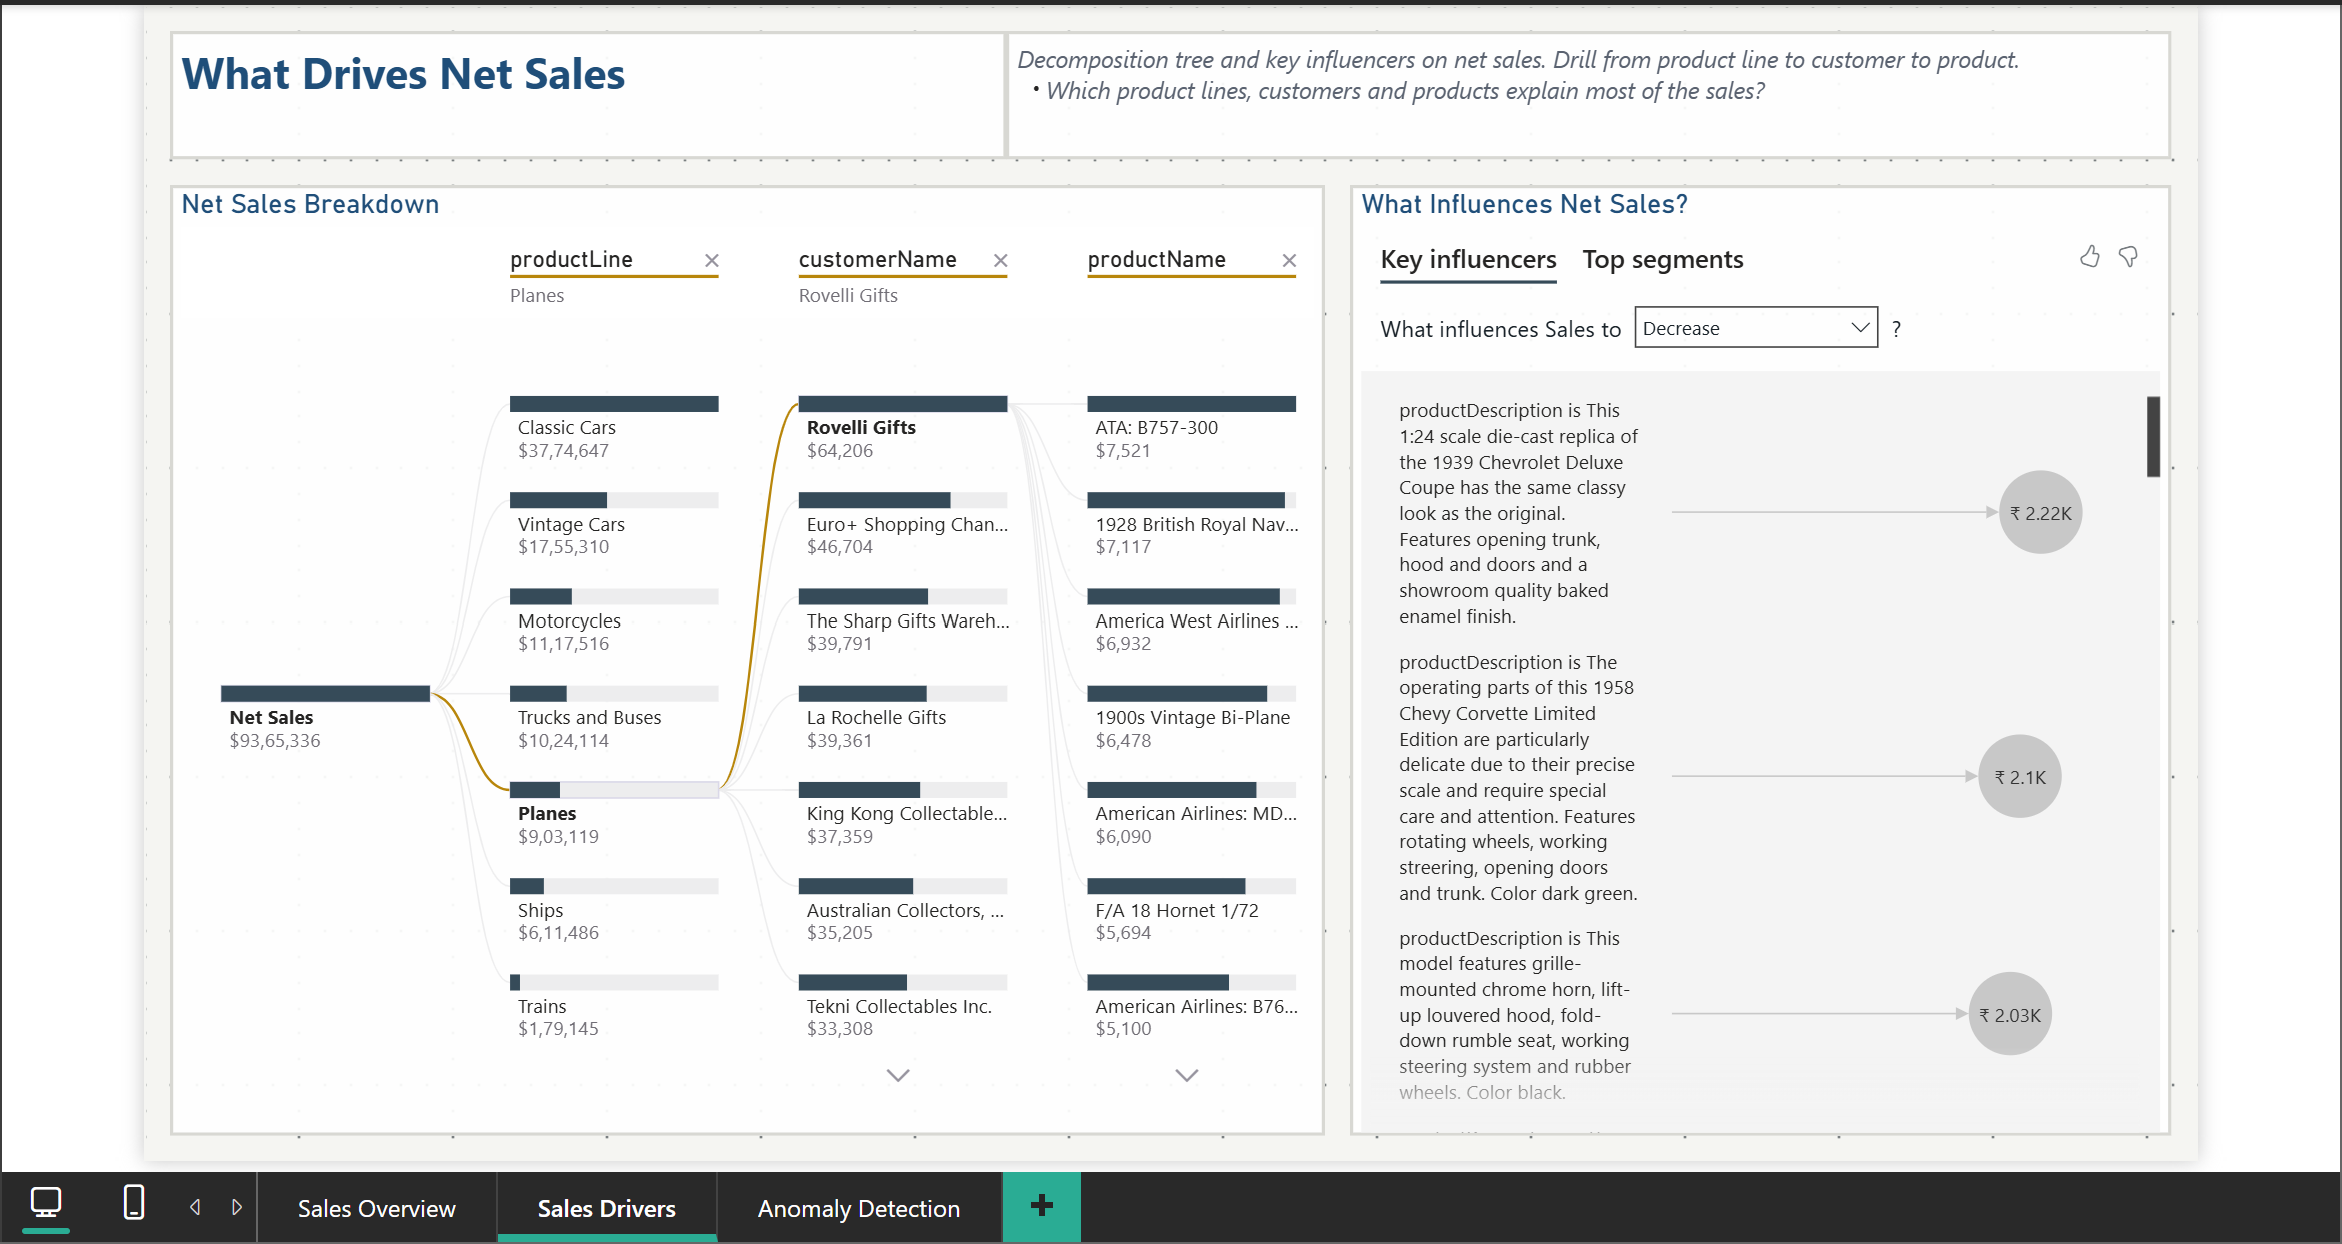

The dashboard page shown, as its layout file describes it:
{"tool":"powerbi","page":{"name":"Sales Drivers","canvas":[1280,720],"ordinal":1},"visuals":[{"type":"textbox","box":[16,16,521.3,80],"z":0,"group":"g1"},{"type":"decompositionTreeVisual","title":"Net Sales Breakdown","fields":{"ExplainBy":["productline.productLine","customer.customerName","products.productName"],"Analyze":["_Measures.Net Sales"]},"box":[16,112,720,592],"z":0},{"type":"textbox","box":[537.3,16,726.7,80],"z":1000,"group":"g1"},{"type":"keyDriversVisual","title":"What Influences Net Sales?","fields":{"Target":["order details.Sales"],"ExplainBy":["products.productDescription"]},"box":[752,112,512,592],"z":1000},{"type":"group","id":"g1","title":"Group 2","box":[16,16,1248,80],"z":4000}]}

Visuals, with their boxes on the page's 1280x720 design canvas (x1, y1, x2, y2). These are canvas units, not pixel positions in the 2342x1244 screenshot, which may show the page scaled, cropped or inside an application window:
textbox: 16, 16, 537, 96
"Net Sales Breakdown" decompositionTreeVisual: 16, 112, 736, 704
textbox: 537, 16, 1264, 96
"What Influences Net Sales?" keyDriversVisual: 752, 112, 1264, 704
"Group 2" group: 16, 16, 1264, 96
